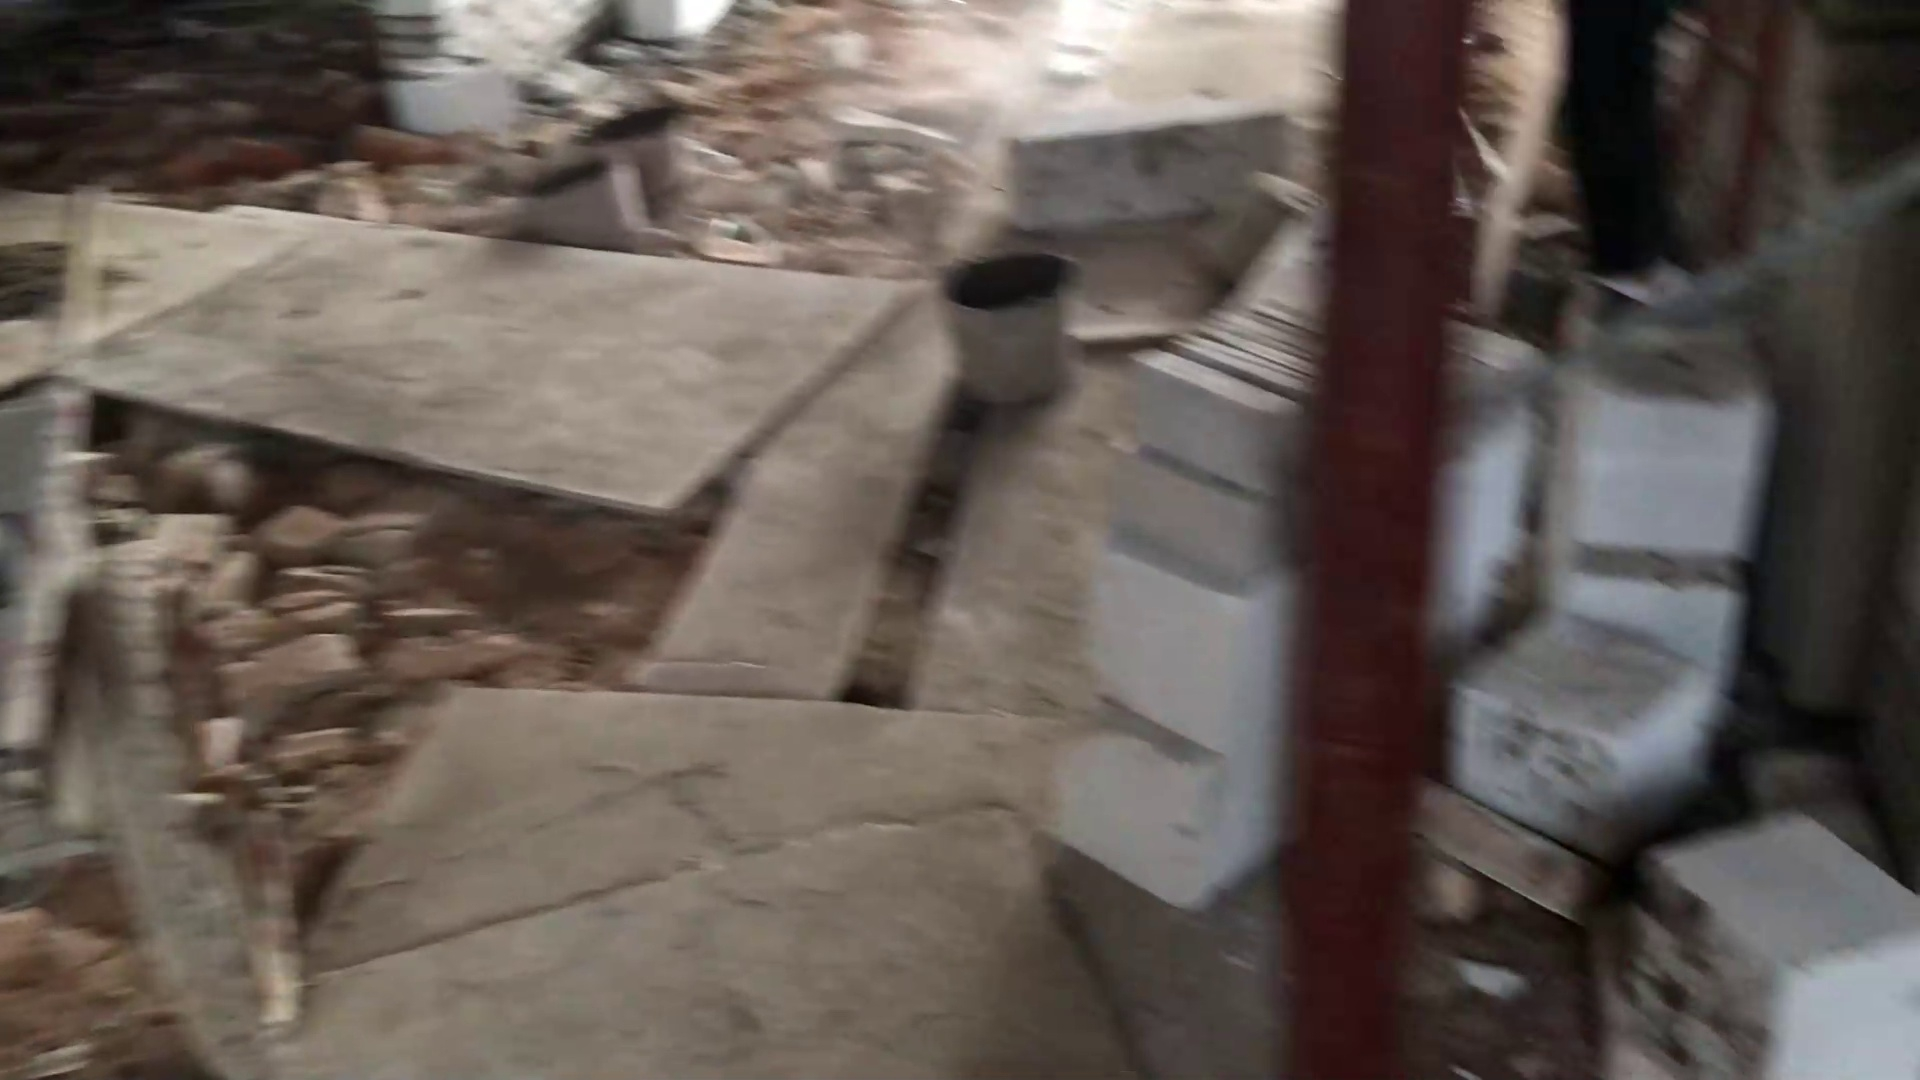brick: (1029, 287, 1778, 898)
handcart: (1, 178, 324, 1080)
